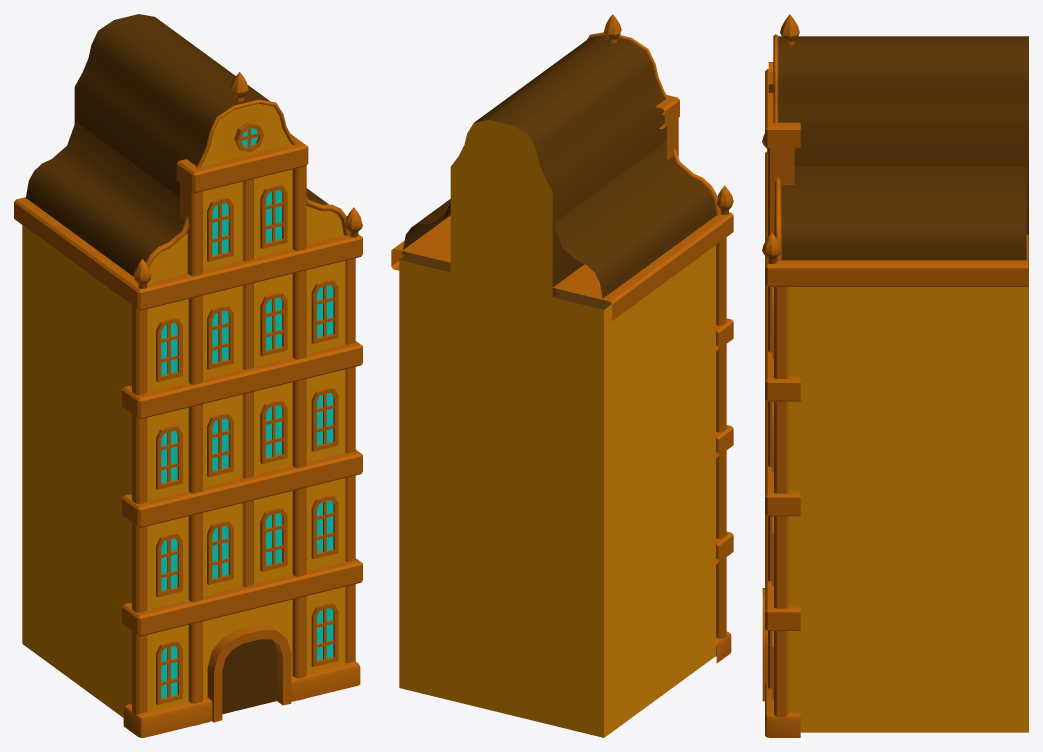
The model's file is mdl_poland_kamienica_1.gltf.
The picture shows the model from 3 angles, left to right: view 1: azimuth 30°, elevation 25°; view 2: azimuth 150°, elevation 25°; view 3: azimuth 270°, elevation 25°; orthographic projection. The views are drawn at different scales.
Visible parts, largest first — view 1: Cube, Cube.004, Cube.006, Cube.012, Cube.013, Cube.005, Cube.008, Cube.011, Cube.001, Cube.002, Cube.009, Cube.007 (+6 smaller); view 2: Cube, Cube.004, Cube.005, Cube.008; view 3: Cube, Cube.004, Cube.005, Cube.008, Cube.006, Cube.002, Cube.001, Cube.009, Cube.003, Cube.010, Cube.013, Cube.016 (+3 smaller).
Part boxes in pixels (left/top/right/bottom): Cube: left=22, top=14, right=345, bottom=717; Cube.004: left=26, top=121, right=343, bottom=282; Cube.006: left=180, top=166, right=306, bottom=725; Cube.012: left=207, top=184, right=287, bottom=584; Cube.013: left=156, top=280, right=338, bottom=704; Cube.005: left=14, top=197, right=362, bottom=310; Cube.008: left=132, top=258, right=355, bottom=714; Cube.011: left=207, top=625, right=291, bottom=722; Cube.001: left=122, top=341, right=362, bottom=419; Cube.002: left=122, top=449, right=362, bottom=527; Cube.009: left=122, top=558, right=362, bottom=636; Cube.007: left=242, top=179, right=253, bottom=587; Cube: left=399, top=35, right=715, bottom=737; Cube.004: left=402, top=141, right=716, bottom=303; Cube.005: left=391, top=212, right=733, bottom=322; Cube.008: left=715, top=237, right=726, bottom=656; Cube: left=778, top=36, right=1028, bottom=732; Cube.004: left=782, top=166, right=1026, bottom=260; Cube.005: left=765, top=151, right=1028, bottom=286; Cube.008: left=774, top=287, right=788, bottom=716; Cube.006: left=768, top=147, right=794, bottom=688; Cube.002: left=765, top=400, right=800, bottom=516; Cube.001: left=765, top=285, right=800, bottom=401; Cube.009: left=765, top=514, right=800, bottom=630; Cube.003: left=765, top=69, right=800, bottom=148; Cube.010: left=765, top=680, right=800, bottom=737; Cube.013: left=772, top=287, right=773, bottom=699; Cube.016: left=774, top=176, right=781, bottom=261.
Bounding box in the file's own units: 2.19 × 5.83 × 2.11.
Materials: 2 (2 with a texture image).
